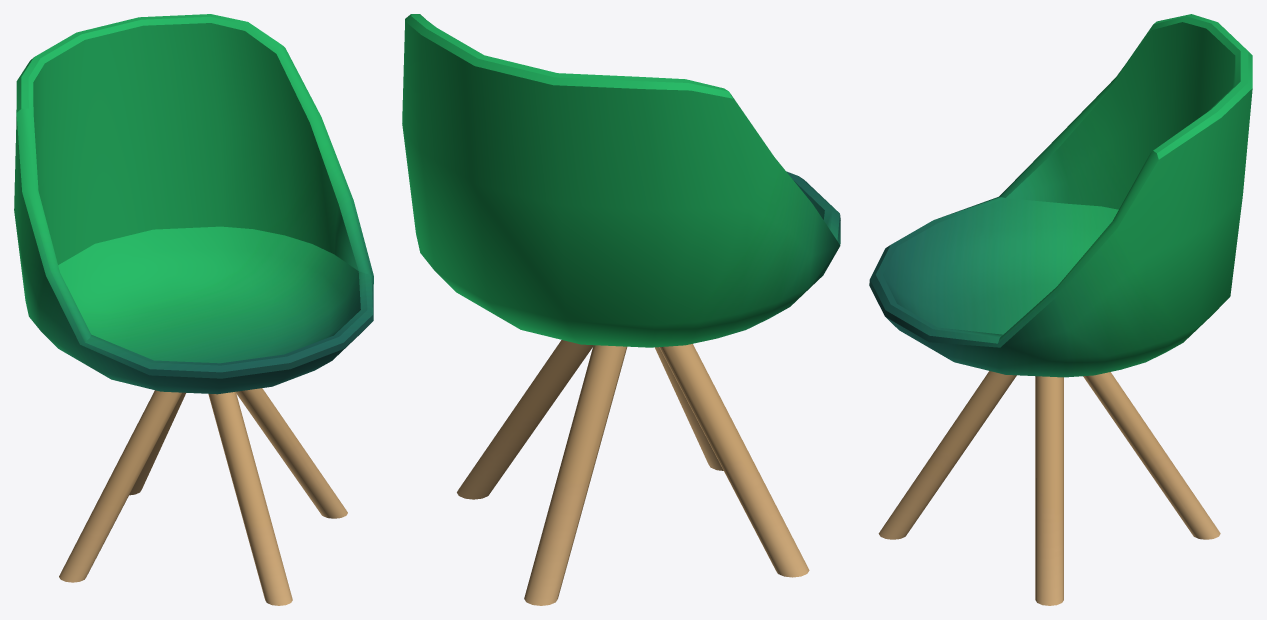
The model's file is Chair1.fbx.
3 renders of one model, left to right at view 1: azimuth 30°, elevation 25°; view 2: azimuth 150°, elevation 25°; view 3: azimuth 270°, elevation 25°, orthographic. The views are drawn at different scales.
Parts seen in each view (by area): view 1: Sphere001; view 2: Sphere001; view 3: Sphere001.
Part boxes in pixels (left/top/right/bottom): Sphere001: left=14, top=14, right=373, bottom=605; Sphere001: left=402, top=14, right=840, bottom=605; Sphere001: left=869, top=14, right=1252, bottom=605.
Bounding box in the file's own units: 54.86 × 76.02 × 56.52.
